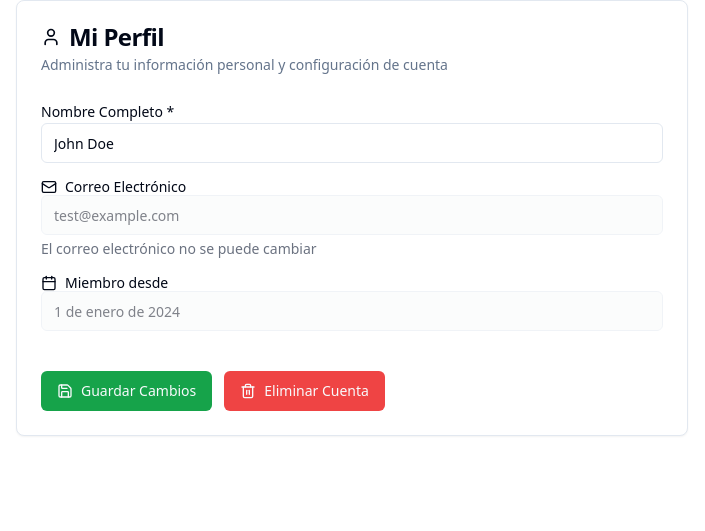
Scenario: CustomerProfilePage › handles no access token gracefully
The width and height of the screenshot is (705, 531).
Replace the text in the field labelled "Nombre Completo *" with "Jane Doe" at (352, 143), box [41,123,663,163]
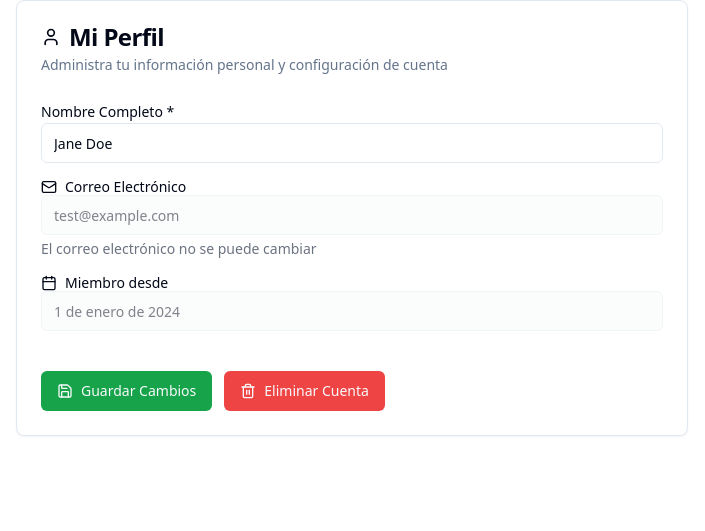
Click the button "Guardar Cambios" at (127, 391), box [41,371,212,411]
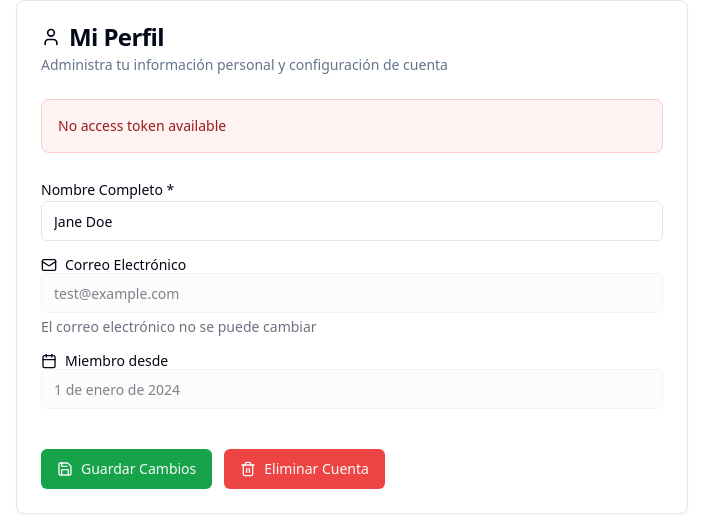
Expected: the text "No access token available" is shown, [58,116,226,135]
